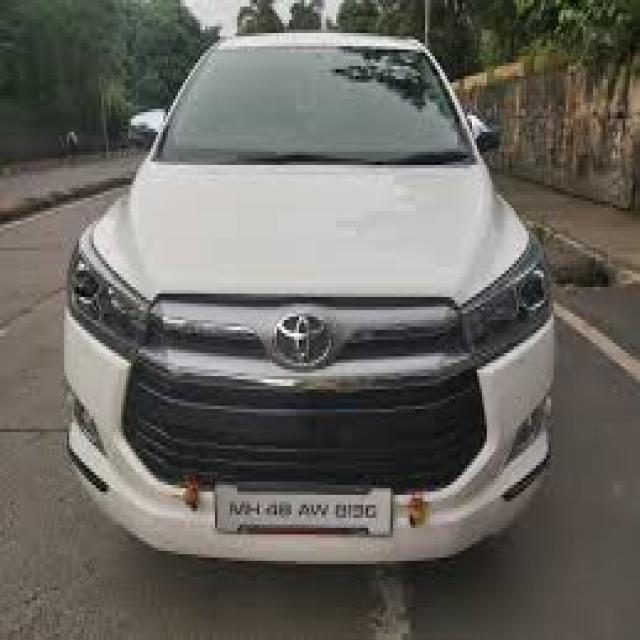light_vehicle: (64, 32, 555, 563)
